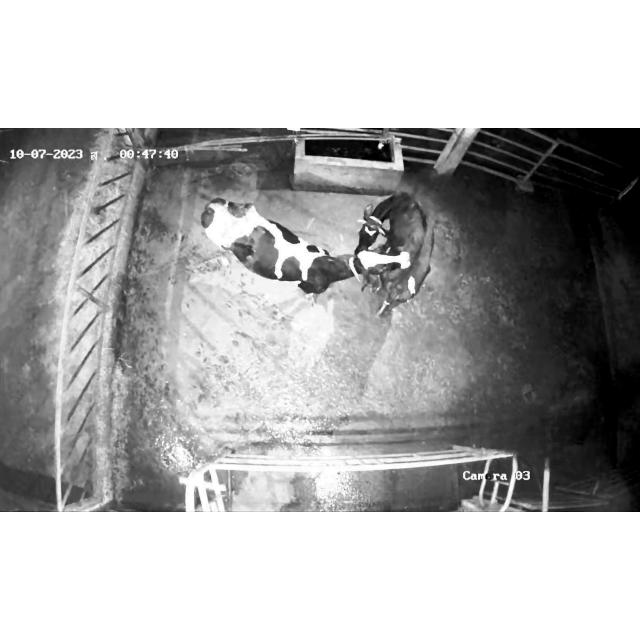propping: (337, 242, 435, 292)
